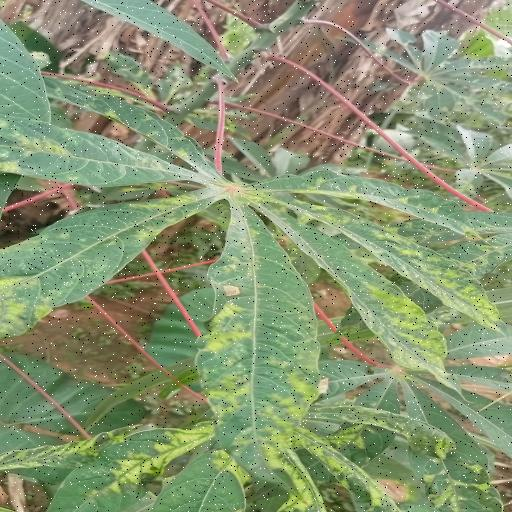Cassava_Mosaic: (0, 78, 512, 474)
